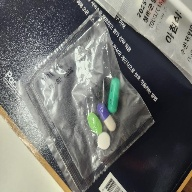러키펜정: (96, 132, 111, 150)
씨엠지세파클러캡슐: (97, 103, 116, 132)
에르도캡슐: (107, 77, 120, 114)
휴티렌정: (87, 113, 103, 136)
